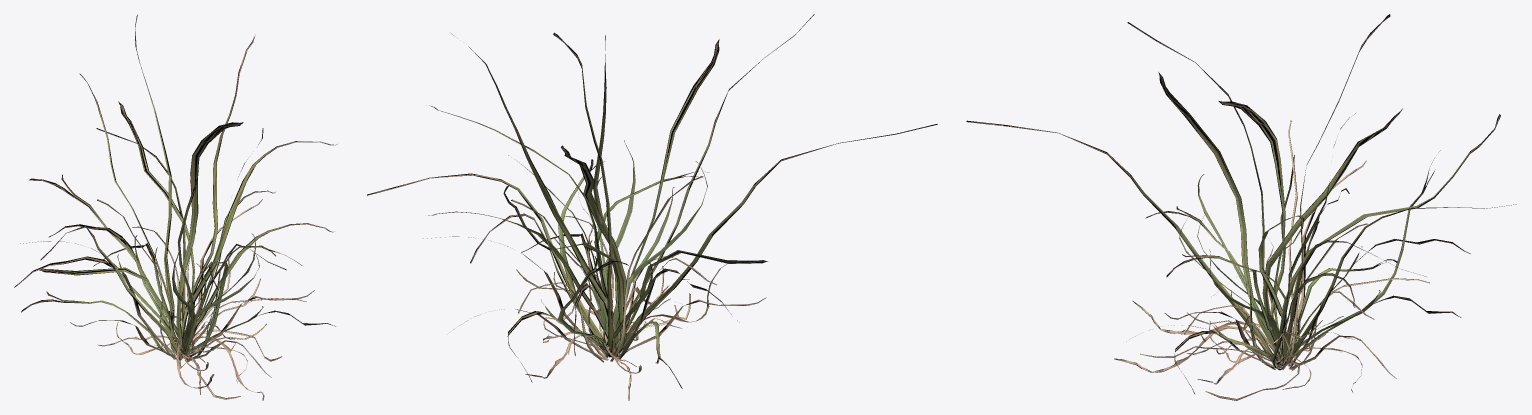
3 views of the same model, side by side, from view 1: azimuth 30°, elevation 25°; view 2: azimuth 150°, elevation 25°; view 3: azimuth 270°, elevation 25° (orthographic). The views are drawn at different scales.
Parts seen in each view (by area): view 1: grass_medium_02_d; view 2: grass_medium_02_d; view 3: grass_medium_02_d.
Part boxes in pixels (<box>): grass_medium_02_d: <box>14,14,337,400</box>; grass_medium_02_d: <box>367,14,937,400</box>; grass_medium_02_d: <box>966,14,1516,400</box>.
Bounding box in the file's own units: 0.3174 × 0.2604 × 0.3619.
Materials: 1 (1 with a texture image).
